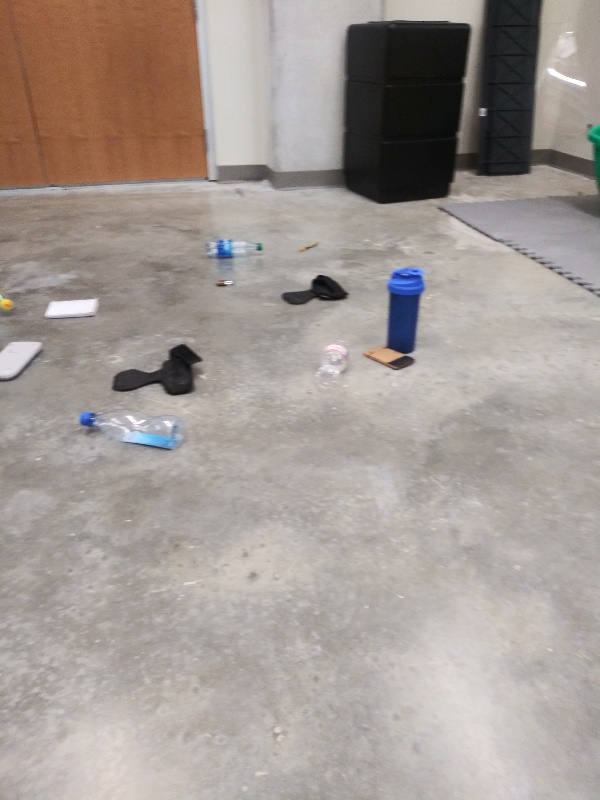bottle: (75, 409, 186, 451), (311, 335, 357, 397), (200, 236, 268, 264), (1, 291, 18, 317)
